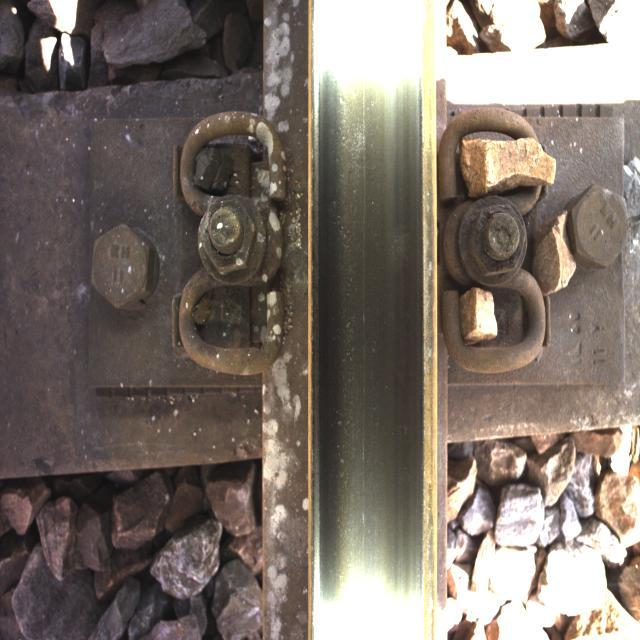break: (315, 12, 420, 548)
